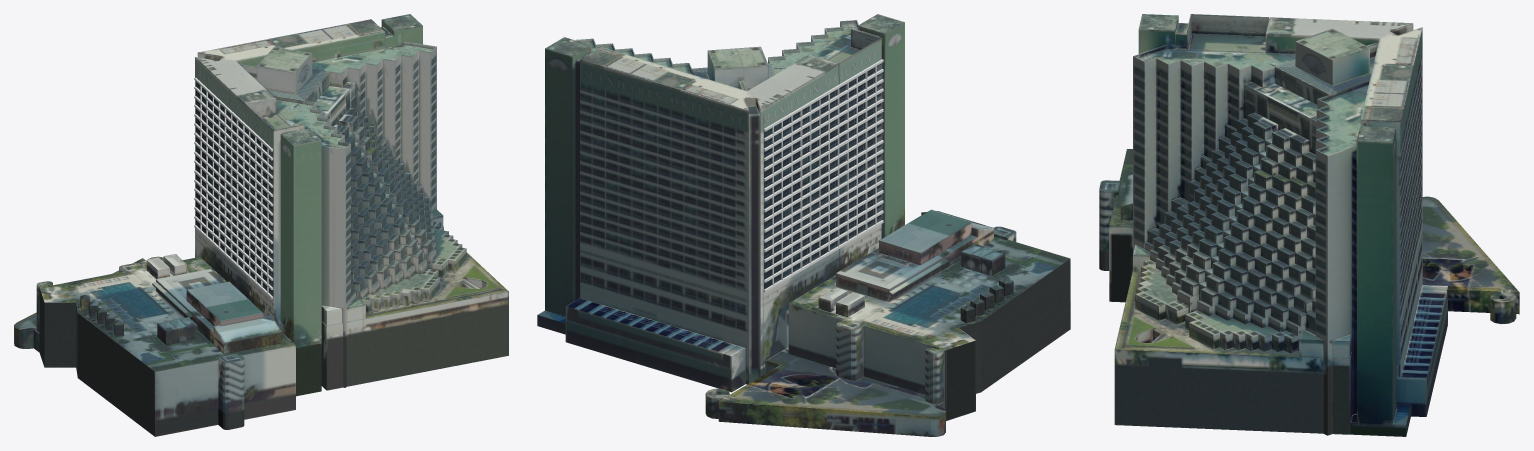
3 renders of one model, left to right at view 1: azimuth 30°, elevation 25°; view 2: azimuth 150°, elevation 25°; view 3: azimuth 270°, elevation 25°, orthographic. The views are drawn at different scales.
Parts seen in each view (by area): view 1: 25_0.glb; view 2: 25_0.glb; view 3: 25_0.glb.
Boxes of the visible parts, <box> form: 25_0.glb: <box>14,14,508,436</box>; 25_0.glb: <box>537,14,1070,436</box>; 25_0.glb: <box>1099,14,1519,436</box>.
Size of the model in its own units: 129 by 83.83 by 105.
Materials: 4 (2 with a texture image).
